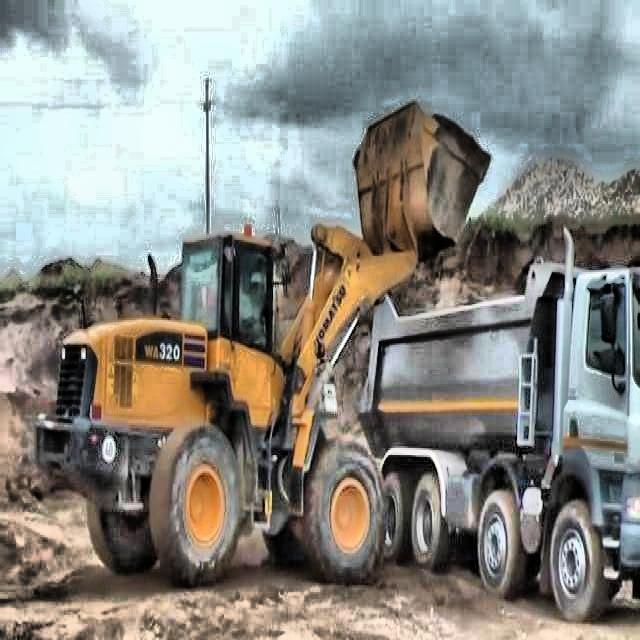bull_dozer/loader/grader: (34, 97, 491, 584)
dump_truck: (356, 222, 638, 624)
